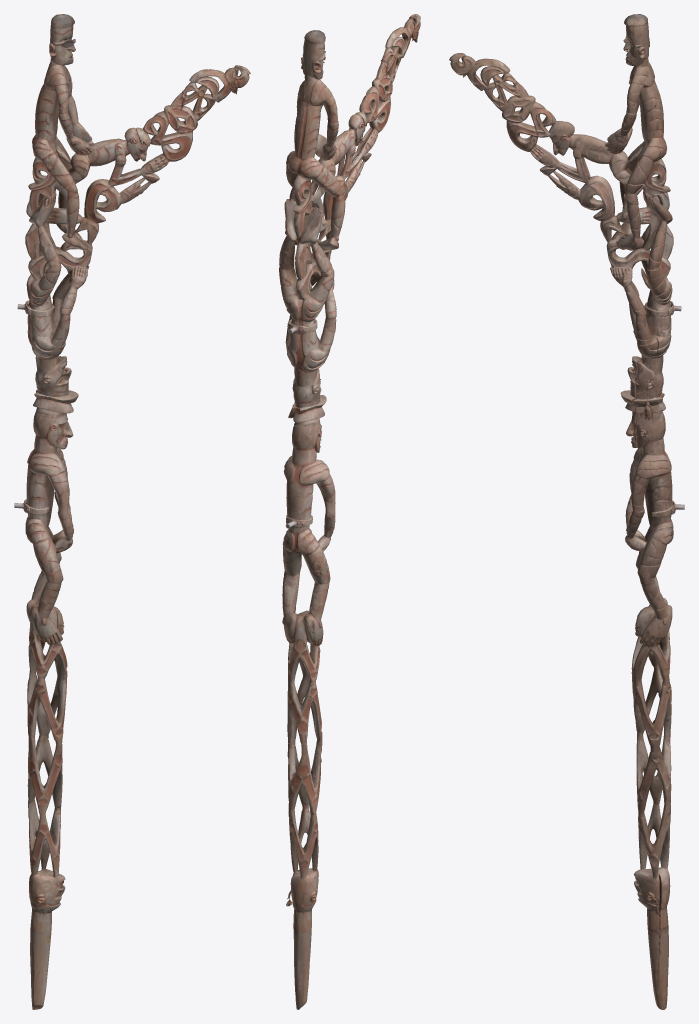
File: preview.glb
3 renders of one model, left to right at view 1: azimuth 90°, elevation 25°; view 2: azimuth 150°, elevation 25°; view 3: azimuth 270°, elevation 25°, orthographic. The views are drawn at different scales.
Parts seen in each view (by area): view 1: ADVIMG_1978_412_1251_BisPole02_12Mil_Master_n3d; view 2: ADVIMG_1978_412_1251_BisPole02_12Mil_Master_n3d; view 3: ADVIMG_1978_412_1251_BisPole02_12Mil_Master_n3d.
Boxes of the visible parts, bbox=[...] form: ADVIMG_1978_412_1251_BisPole02_12Mil_Master_n3d: bbox=[14, 14, 250, 1009]; ADVIMG_1978_412_1251_BisPole02_12Mil_Master_n3d: bbox=[279, 14, 420, 1009]; ADVIMG_1978_412_1251_BisPole02_12Mil_Master_n3d: bbox=[449, 14, 684, 1009].
Size of the model in its own units: 0.3213 by 5.78 by 1.24.
1 material, 1 textured.
